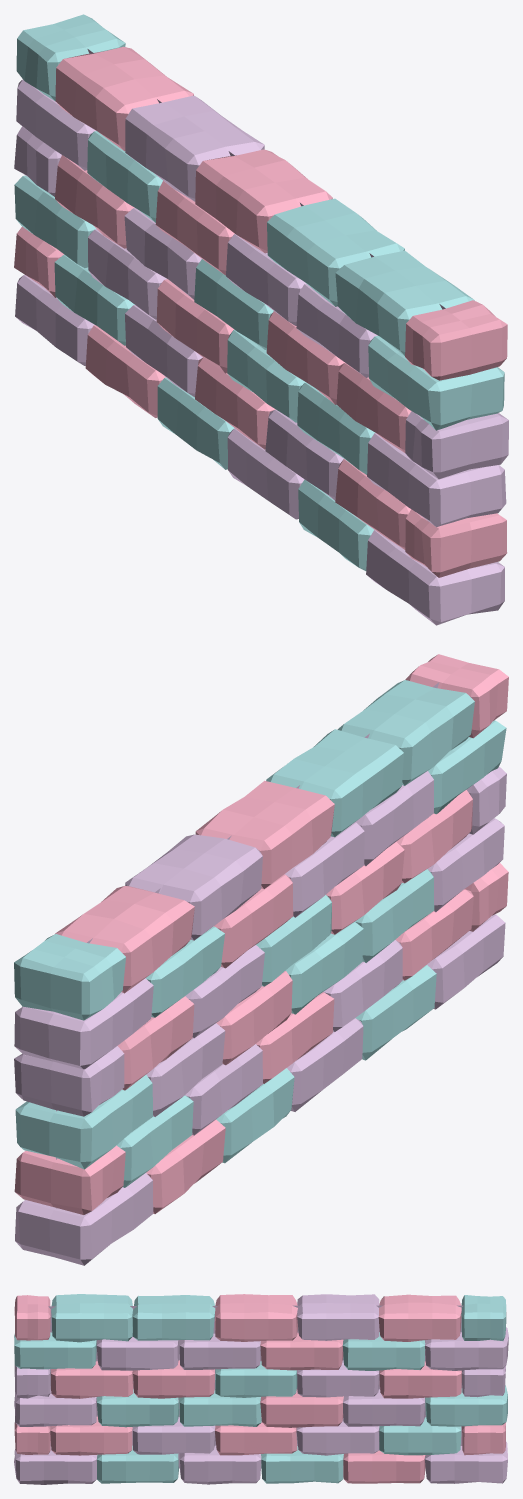
The model's file is Sciana.fbx.
3 renders of one model, top to bottom at view 1: azimuth 30°, elevation 25°; view 2: azimuth 150°, elevation 25°; view 3: azimuth 270°, elevation 25°, orthographic. The views are drawn at different scales.
Visible parts, largest first — view 1: Ściana; view 2: Ściana; view 3: Ściana.
Boxes of the visible parts, bbox=[...] form: Ściana: bbox=[14, 14, 508, 625]; Ściana: bbox=[14, 654, 508, 1265]; Ściana: bbox=[14, 1294, 508, 1484].
Bounding box in the file's own units: 131 × 470 × 1216.
